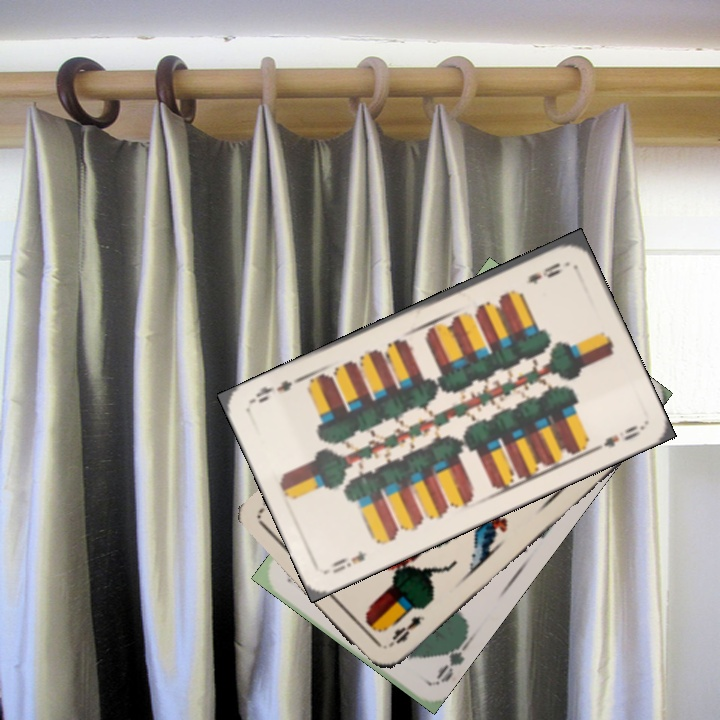E9: (327, 546, 370, 576), (523, 258, 566, 287)
EO: (384, 611, 428, 651)
GO: (432, 630, 475, 686)
